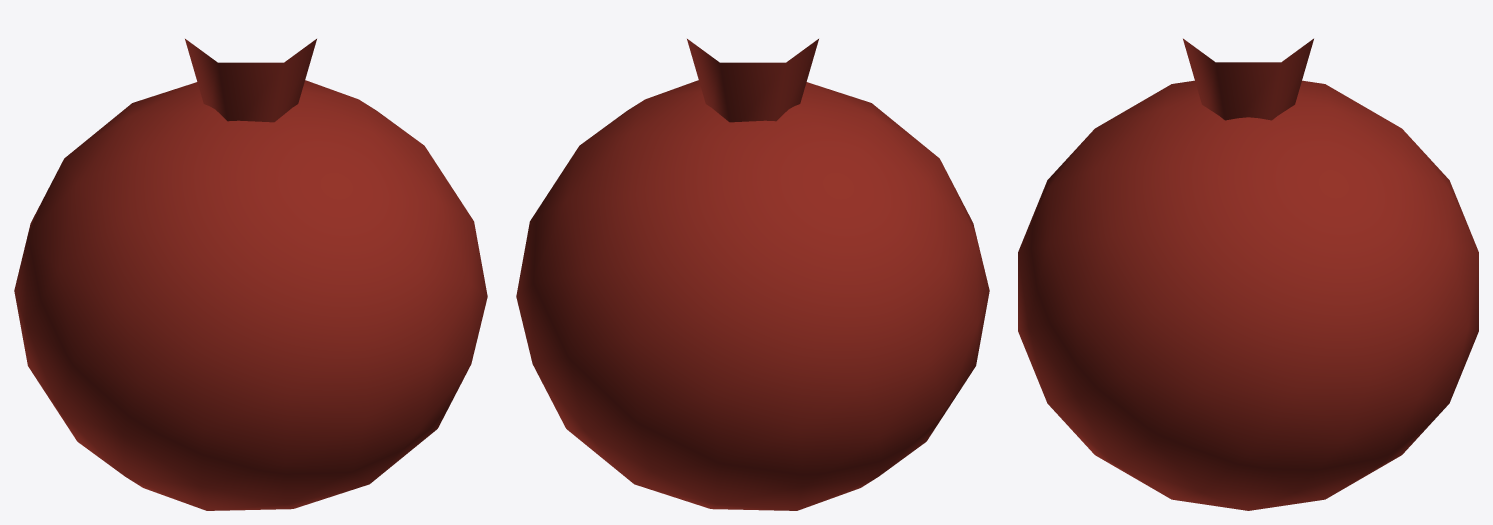
File: throwable.glb
The picture shows the model from 3 angles, left to right: view 1: azimuth 30°, elevation 25°; view 2: azimuth 150°, elevation 25°; view 3: azimuth 270°, elevation 25°; orthographic projection.
Visible parts, largest first — view 1: fruit, crown; view 2: fruit, crown; view 3: fruit, crown.
Part boxes in pixels (left/top/right/bottom): fruit: left=14, top=80, right=487, bottom=510; crown: left=185, top=39, right=316, bottom=122; fruit: left=516, top=80, right=989, bottom=510; crown: left=687, top=39, right=818, bottom=122; fruit: left=1018, top=80, right=1478, bottom=510; crown: left=1183, top=38, right=1313, bottom=120.
Bounding box in the file's own units: 0.1645 × 0.1757 × 0.1645.
